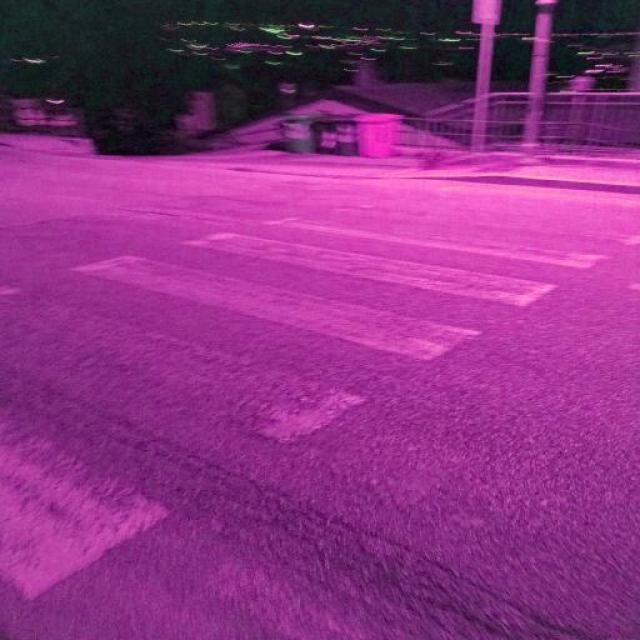crosswalk: (0, 180, 640, 604)
